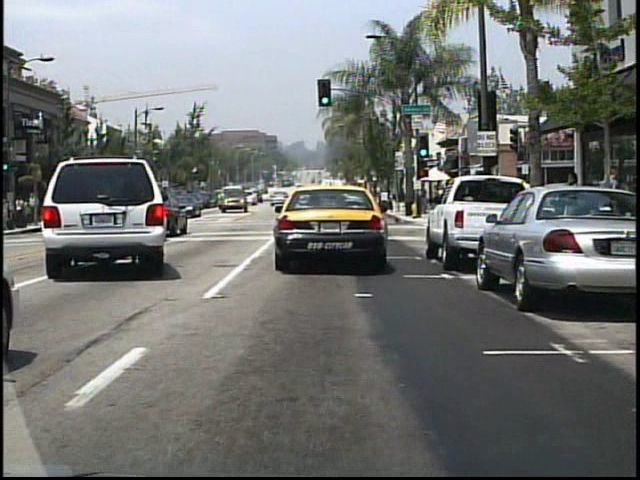person: (561, 170, 582, 238), (598, 170, 620, 232), (1, 196, 14, 232), (29, 191, 42, 223)
